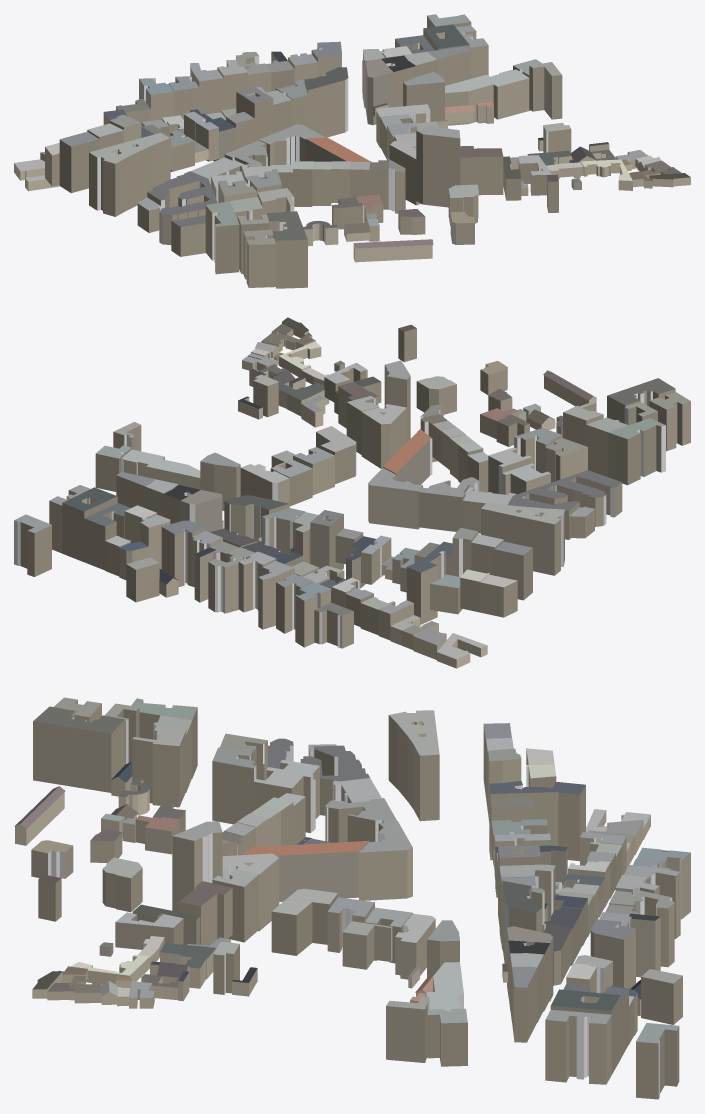
3 renders of one model, top to bottom at view 1: azimuth 30°, elevation 25°; view 2: azimuth 150°, elevation 25°; view 3: azimuth 270°, elevation 25°, orthographic. The views are drawn at different scales.
Parts seen in each view (by area): view 1: tuile; view 2: tuile; view 3: tuile.
Boxes of the visible parts, x1,y1,x2,y2 form: tuile: (14, 14, 690, 288); tuile: (14, 317, 690, 668); tuile: (14, 697, 690, 1099).
Size of the model in its own units: 266 by 62.87 by 271.
